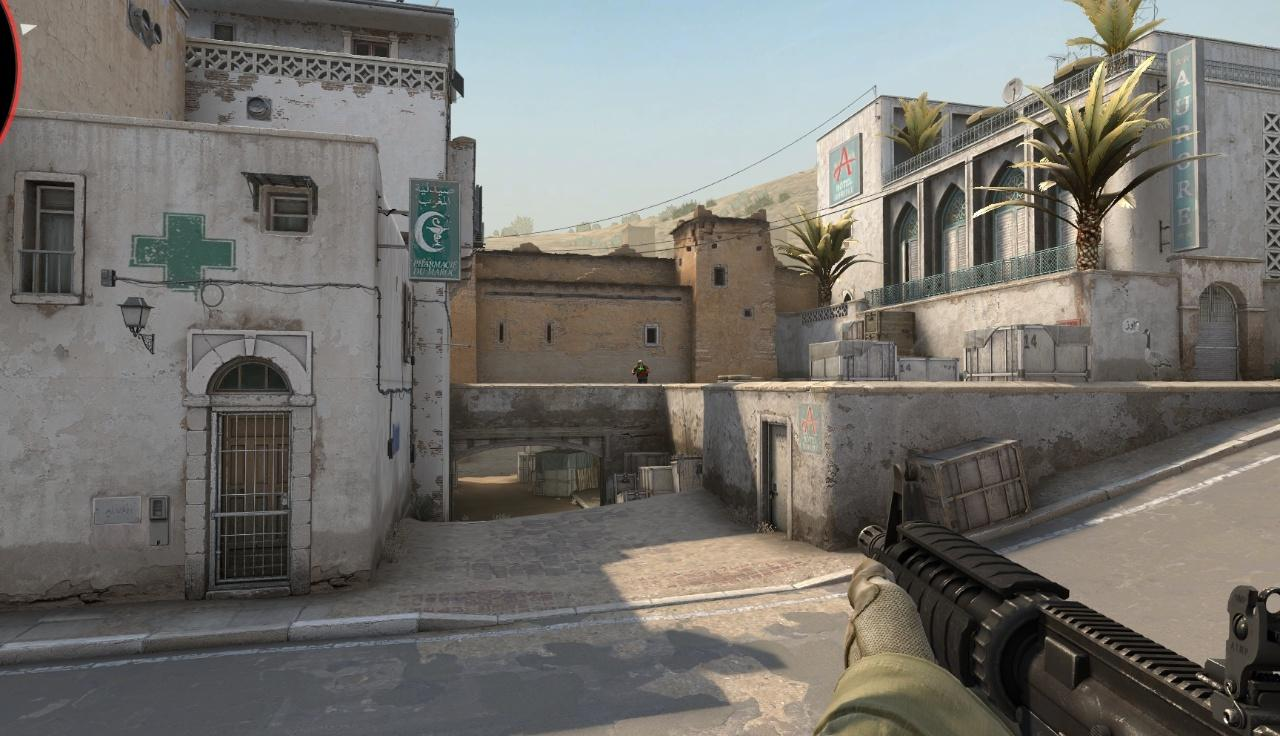rifle: (857, 460, 1280, 736)
tt: (633, 360, 649, 384)
tthead: (638, 360, 643, 367)
